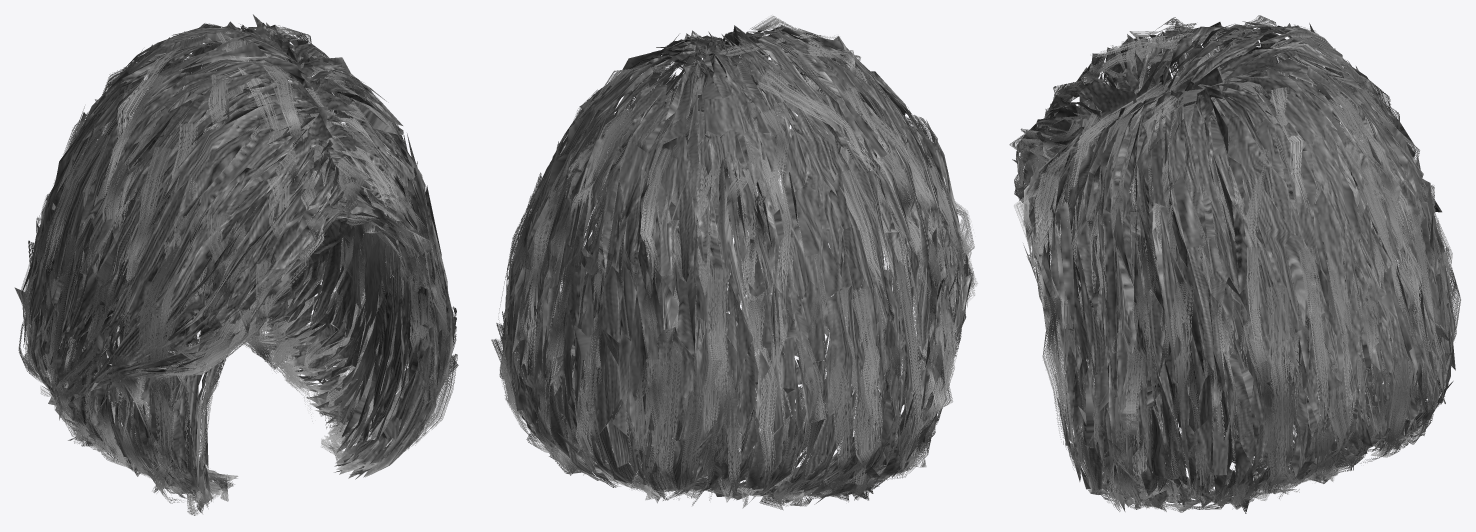
File: hair_bob.glb
The picture shows the model from 3 angles, left to right: view 1: azimuth 30°, elevation 25°; view 2: azimuth 150°, elevation 25°; view 3: azimuth 270°, elevation 25°; orthographic projection. The views are drawn at different scales.
Parts seen in each view (by area): view 1: Mesh_0, haircards; view 2: Mesh_0, haircards; view 3: Mesh_0, haircards.
Part boxes in pixels (x1,y1,x2,y2): Mesh_0: (14, 14, 455, 503); haircards: (18, 25, 458, 515); Mesh_0: (501, 22, 973, 504); haircards: (491, 15, 977, 510); Mesh_0: (1016, 21, 1455, 511); haircards: (1009, 15, 1460, 513).
Bounding box in the file's own units: 0.2438 × 0.262 × 0.2399.
Materials: 2 (2 with a texture image).
